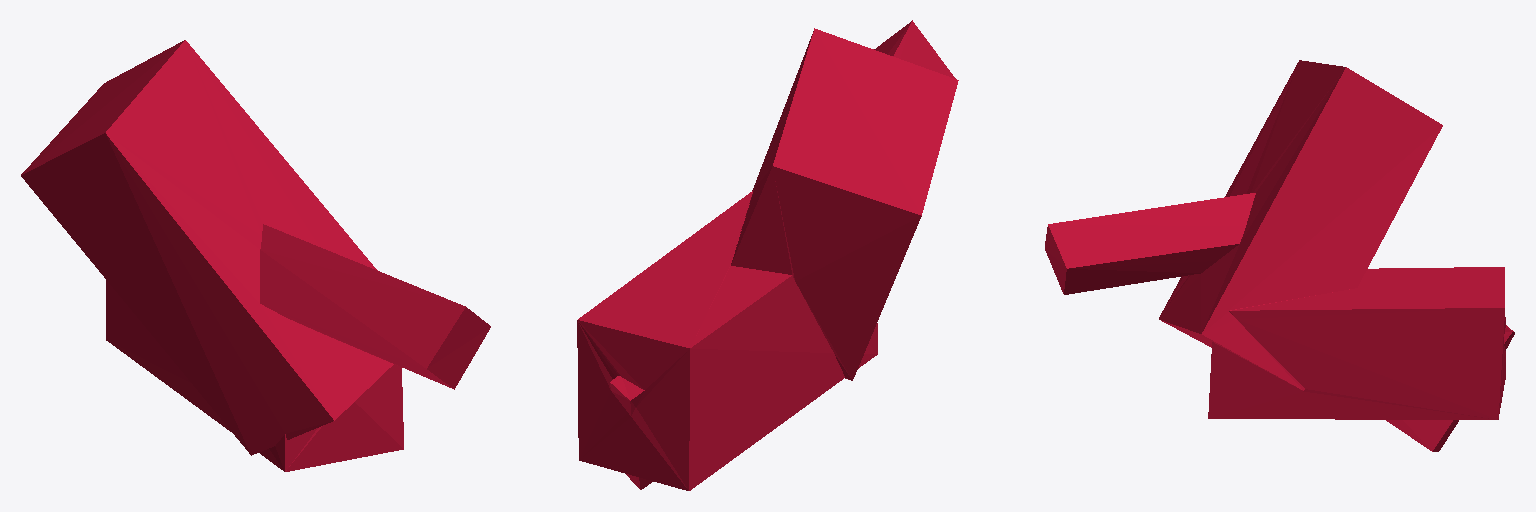
The robot description file, URDF, robot "blob054":

<robot name="blob054">
  <link name="random_obj_054">
    <contact>
      <lateral_friction value="1.0"/>
      <rolling_friction value="0.0"/>
      <inertia_scaling value="3.0"/>
      <contact_cfm value="0.0"/>
      <contact_erp value="1.0"/>
    </contact>
    <inertial>
      <origin rpy="0 0 0" xyz="0 0 0"/>
      <mass value="0.1106"/>
      <inertia ixx="1" ixy="0" ixz="0" iyy="1" iyz="0" izz="0"/>
    </inertial>
    <visual>
      <origin rpy="0 0 0" xyz="0 0 0"/>
      <geometry>
        <mesh filename="054.obj" scale="0.0094 0.0094 0.0094"/>
      </geometry>
      <material name="blockmat">
        <color rgba="0.77 0.12 0.26 1"/>
      </material>
    </visual>
    <collision>
      <origin rpy="0 0 0" xyz="0 0 0"/>
      <geometry>
        <mesh filename="054_coll.obj" scale="0.0094 0.0094 0.0094"/>
      </geometry>
    </collision>
  </link>
</robot>

--- What the picture shows (computed from the rendered views, not written in the file) ---
The picture shows the robot from 3 angles, left to right: view 1: azimuth 30°, elevation 25°; view 2: azimuth 150°, elevation 25°; view 3: azimuth 270°, elevation 25°; orthographic projection.
Model blob054 with 1 links and 0 joints (none), rooted at random_obj_054, posed all joints at 0.
Links seen in each view (by area): view 1: random_obj_054; view 2: random_obj_054; view 3: random_obj_054.
Boxes of the visible links, x1=… form: random_obj_054: x1=21, y1=40, x2=490, y2=471; random_obj_054: x1=577, y1=20, x2=958, y2=490; random_obj_054: x1=1045, y1=60, x2=1514, y2=451.
Size in the robot's own frame: 0.103 by 0.1847 by 0.148 metres.
Meshes: 1 distinct files referenced, 1 mesh visuals loaded (1 OBJ).
